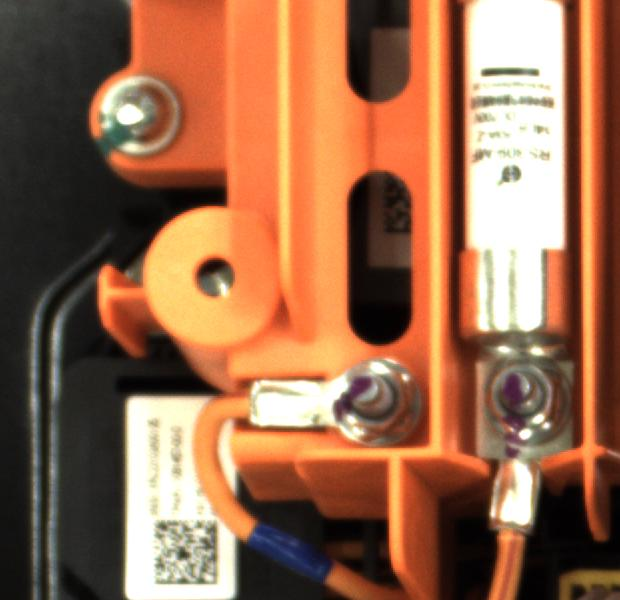screw_m: (73, 63, 195, 160)
screw_s: (322, 355, 429, 447), (479, 351, 578, 445)
